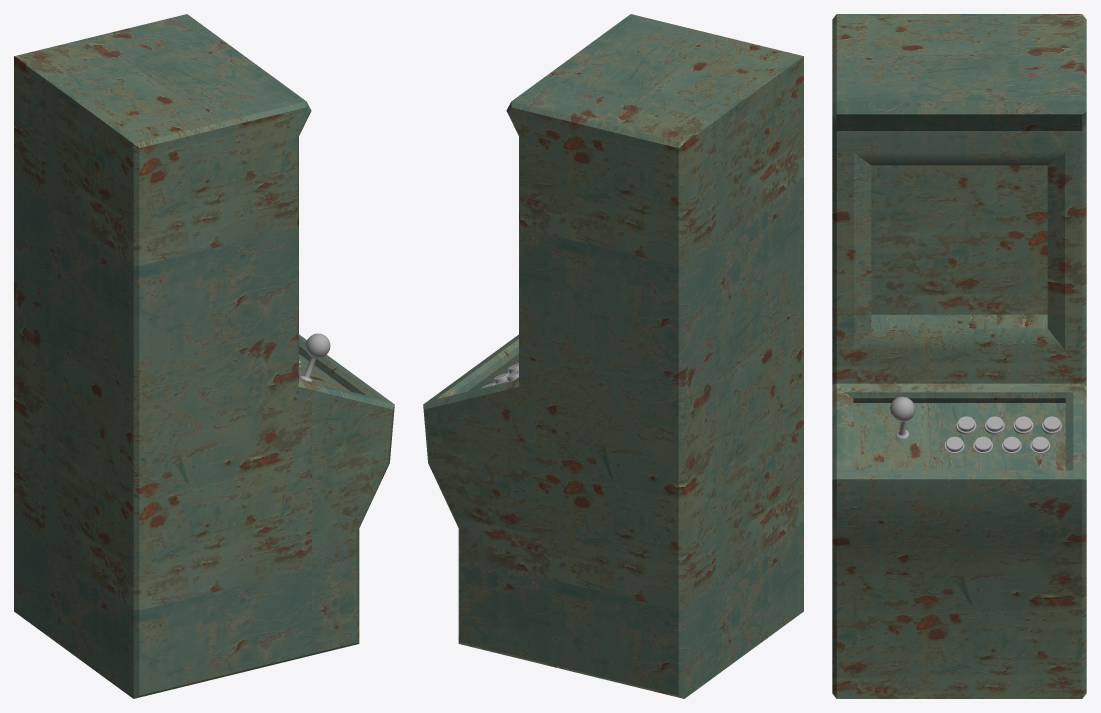
The model's file is videogame.fbx.
The picture shows the model from 3 angles, left to right: view 1: azimuth 30°, elevation 25°; view 2: azimuth 150°, elevation 25°; view 3: azimuth 270°, elevation 25°; orthographic projection. The views are drawn at different scales.
Visible parts, largest first — view 1: b5_lightgame:pCube1017, pSphere2; view 2: b5_lightgame:pCube1017; view 3: b5_lightgame:pCube1017, pSphere2.
Part boxes in pixels (box(x1,y1,x2,y2)): b5_lightgame:pCube1017: box(14, 14, 394, 698); pSphere2: box(300, 333, 330, 381); b5_lightgame:pCube1017: box(423, 14, 803, 698); b5_lightgame:pCube1017: box(832, 14, 1086, 698); pSphere2: box(889, 396, 915, 439).
Bounding box in the file's own units: 95.87 × 195 × 78.62.
2 materials, 1 textured.
